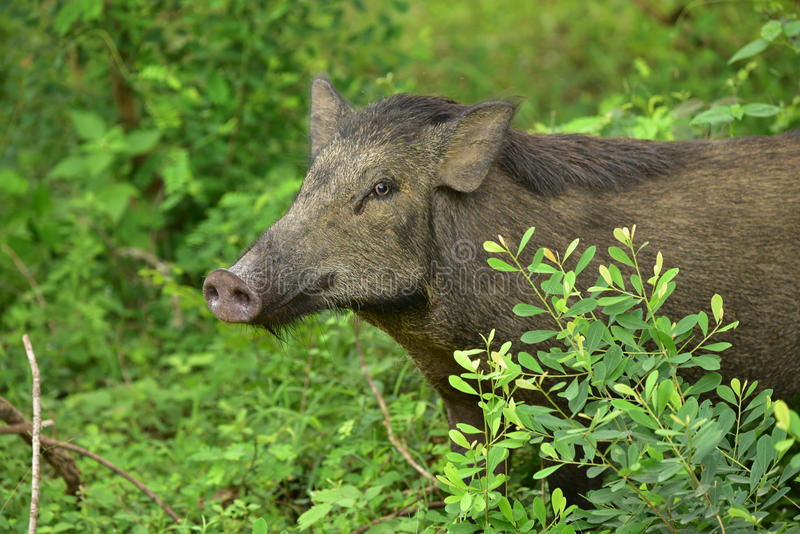wild boar: (198, 61, 800, 500)
